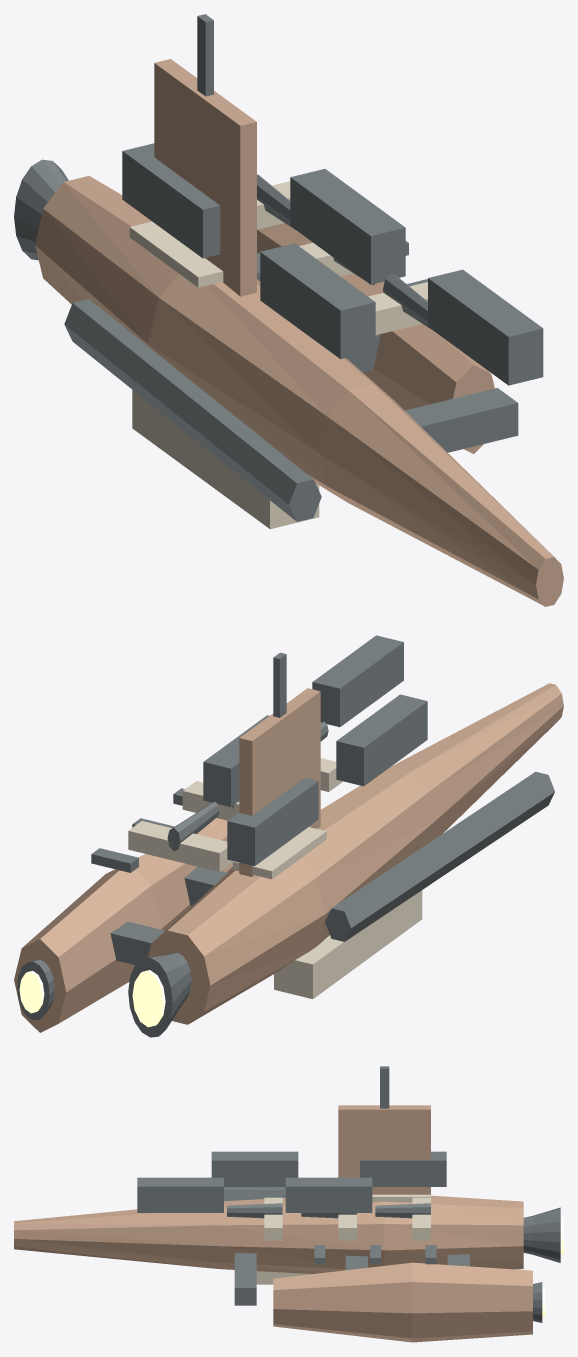
3 views of the same model, one above another, from view 1: azimuth 30°, elevation 25°; view 2: azimuth 150°, elevation 25°; view 3: azimuth 270°, elevation 25° (orthographic). The views are drawn at different scales.
Bounding box in the file's own units: 5.82 × 7.08 × 15.23.
